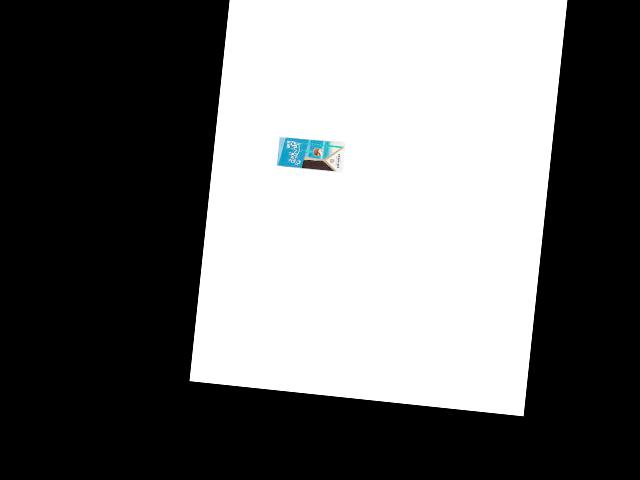chocolate: (275, 134, 347, 174)
